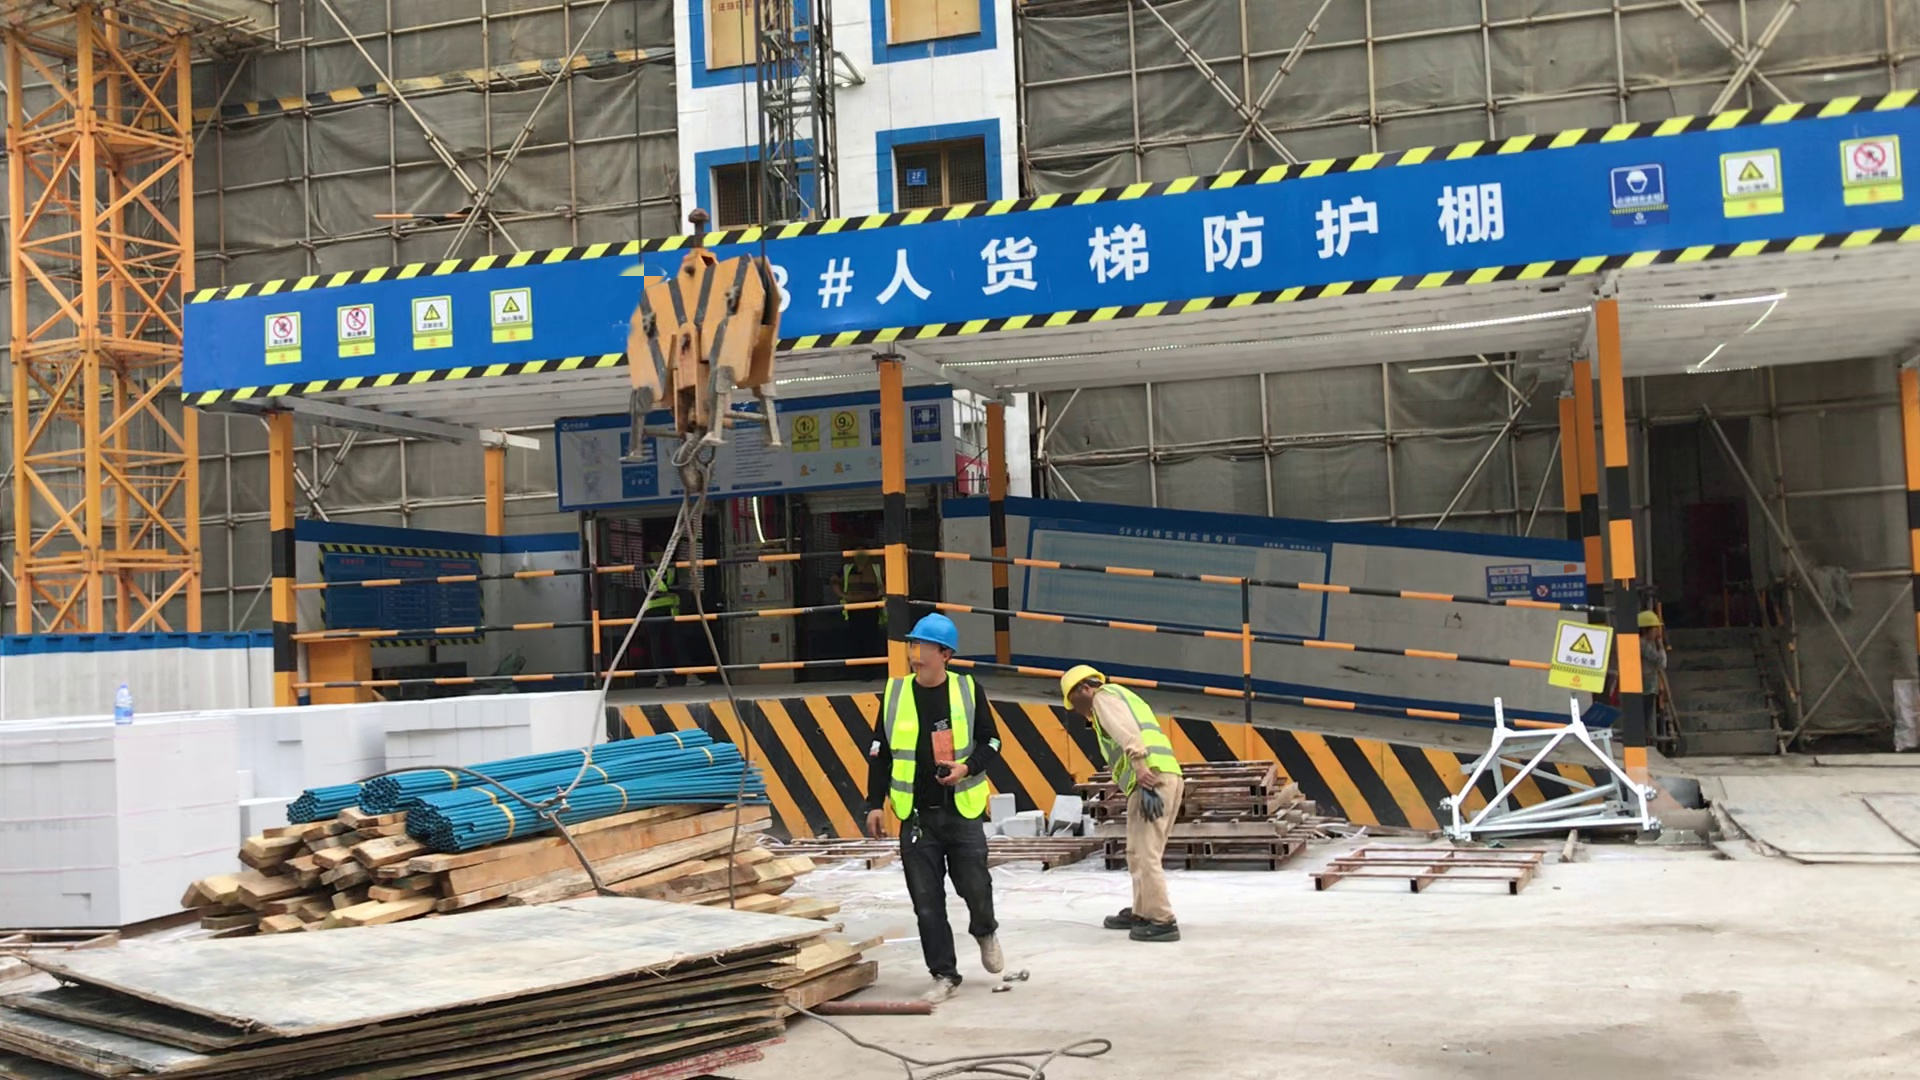board: (2, 854, 843, 1080)
brick: (990, 784, 1087, 855)
fence: (287, 542, 1626, 782)
helmet: (889, 597, 978, 666), (1051, 657, 1112, 712)
hook: (591, 193, 858, 542)
person: (851, 599, 1035, 1016), (1047, 657, 1206, 979)
slogan: (169, 73, 1920, 421), (1002, 496, 1360, 664), (549, 378, 965, 522), (302, 526, 518, 647), (1537, 618, 1621, 701), (1480, 560, 1595, 614)
vest: (869, 666, 1000, 822), (1079, 682, 1192, 791)
wood: (180, 718, 873, 955)
